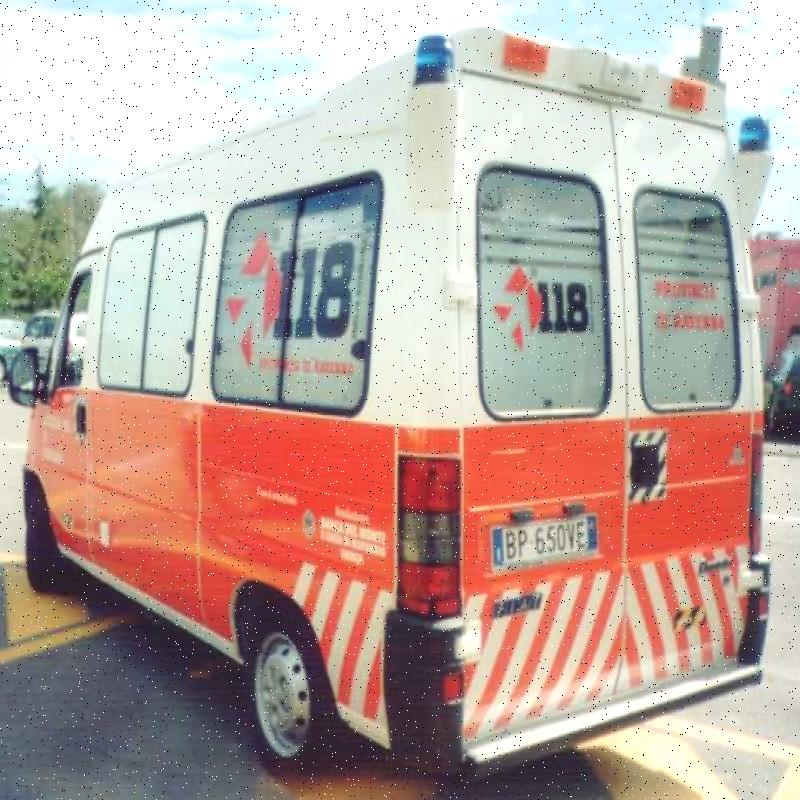AmbulanceSiren: (407, 0, 478, 103), (727, 98, 779, 167)
